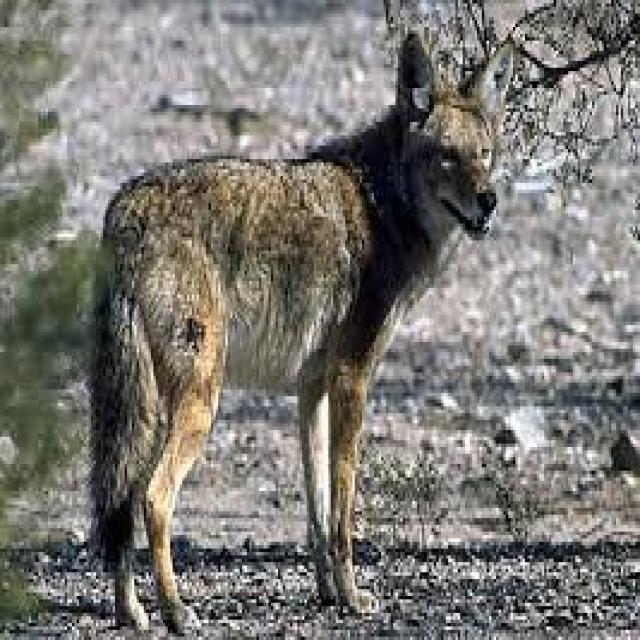Coyote: (74, 25, 513, 618)
